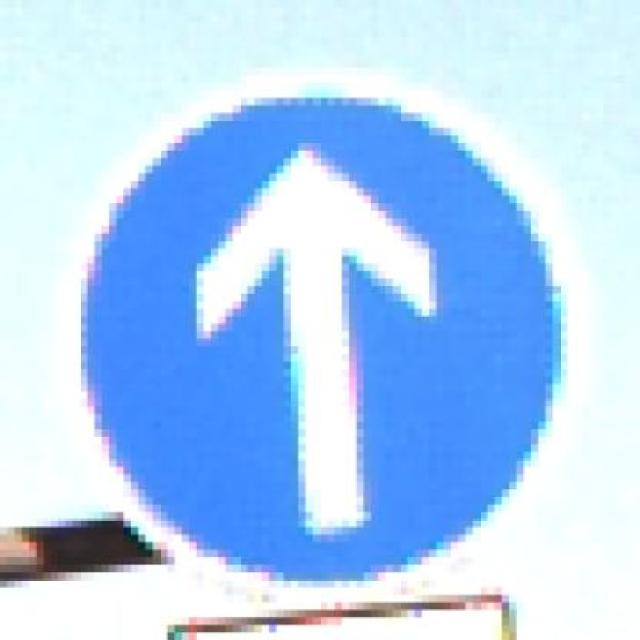Straight Ahead Only: (73, 60, 575, 603)
